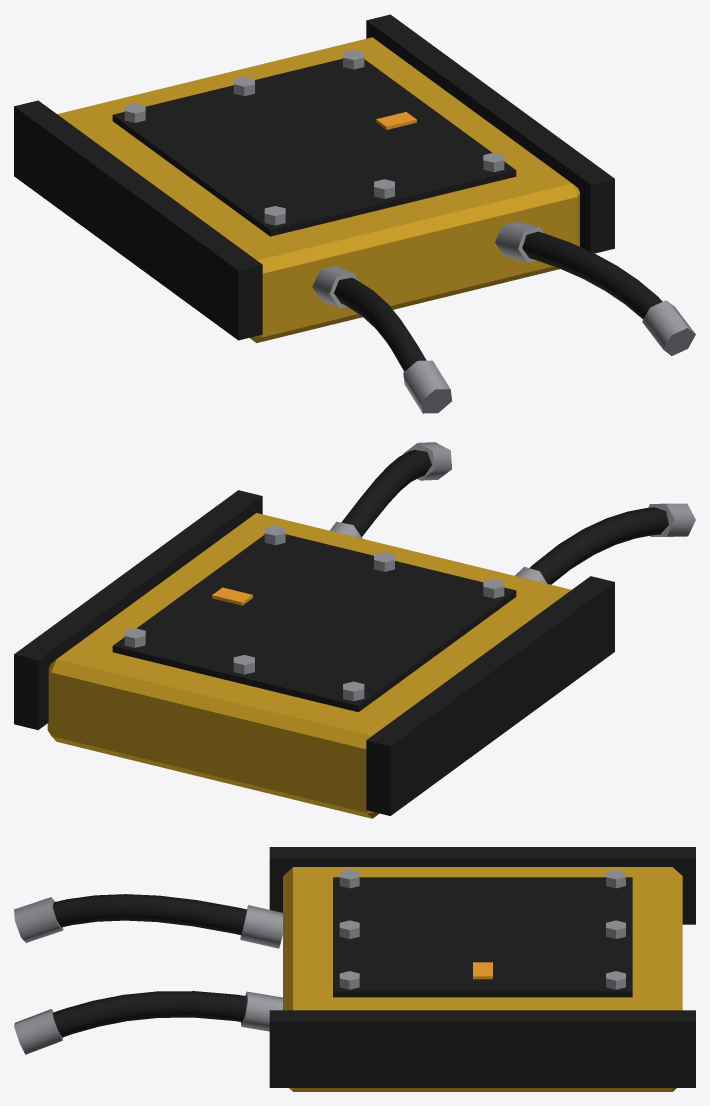
File: kt1_field_ctl.obj
The picture shows the model from 3 angles, top to bottom: view 1: azimuth 30°, elevation 25°; view 2: azimuth 150°, elevation 25°; view 3: azimuth 270°, elevation 25°; orthographic projection. The views are drawn at different scales.
Visible parts, largest first — view 1: kt1_field_ctl; view 2: kt1_field_ctl; view 3: kt1_field_ctl.
Boxes of the visible parts, box(x1,y1,x2,y2) form: kt1_field_ctl: box(14, 14, 695, 413); kt1_field_ctl: box(14, 442, 695, 818); kt1_field_ctl: box(14, 847, 695, 1091).
Bounding box in the file's own units: 1.24 × 0.31 × 2.05.
